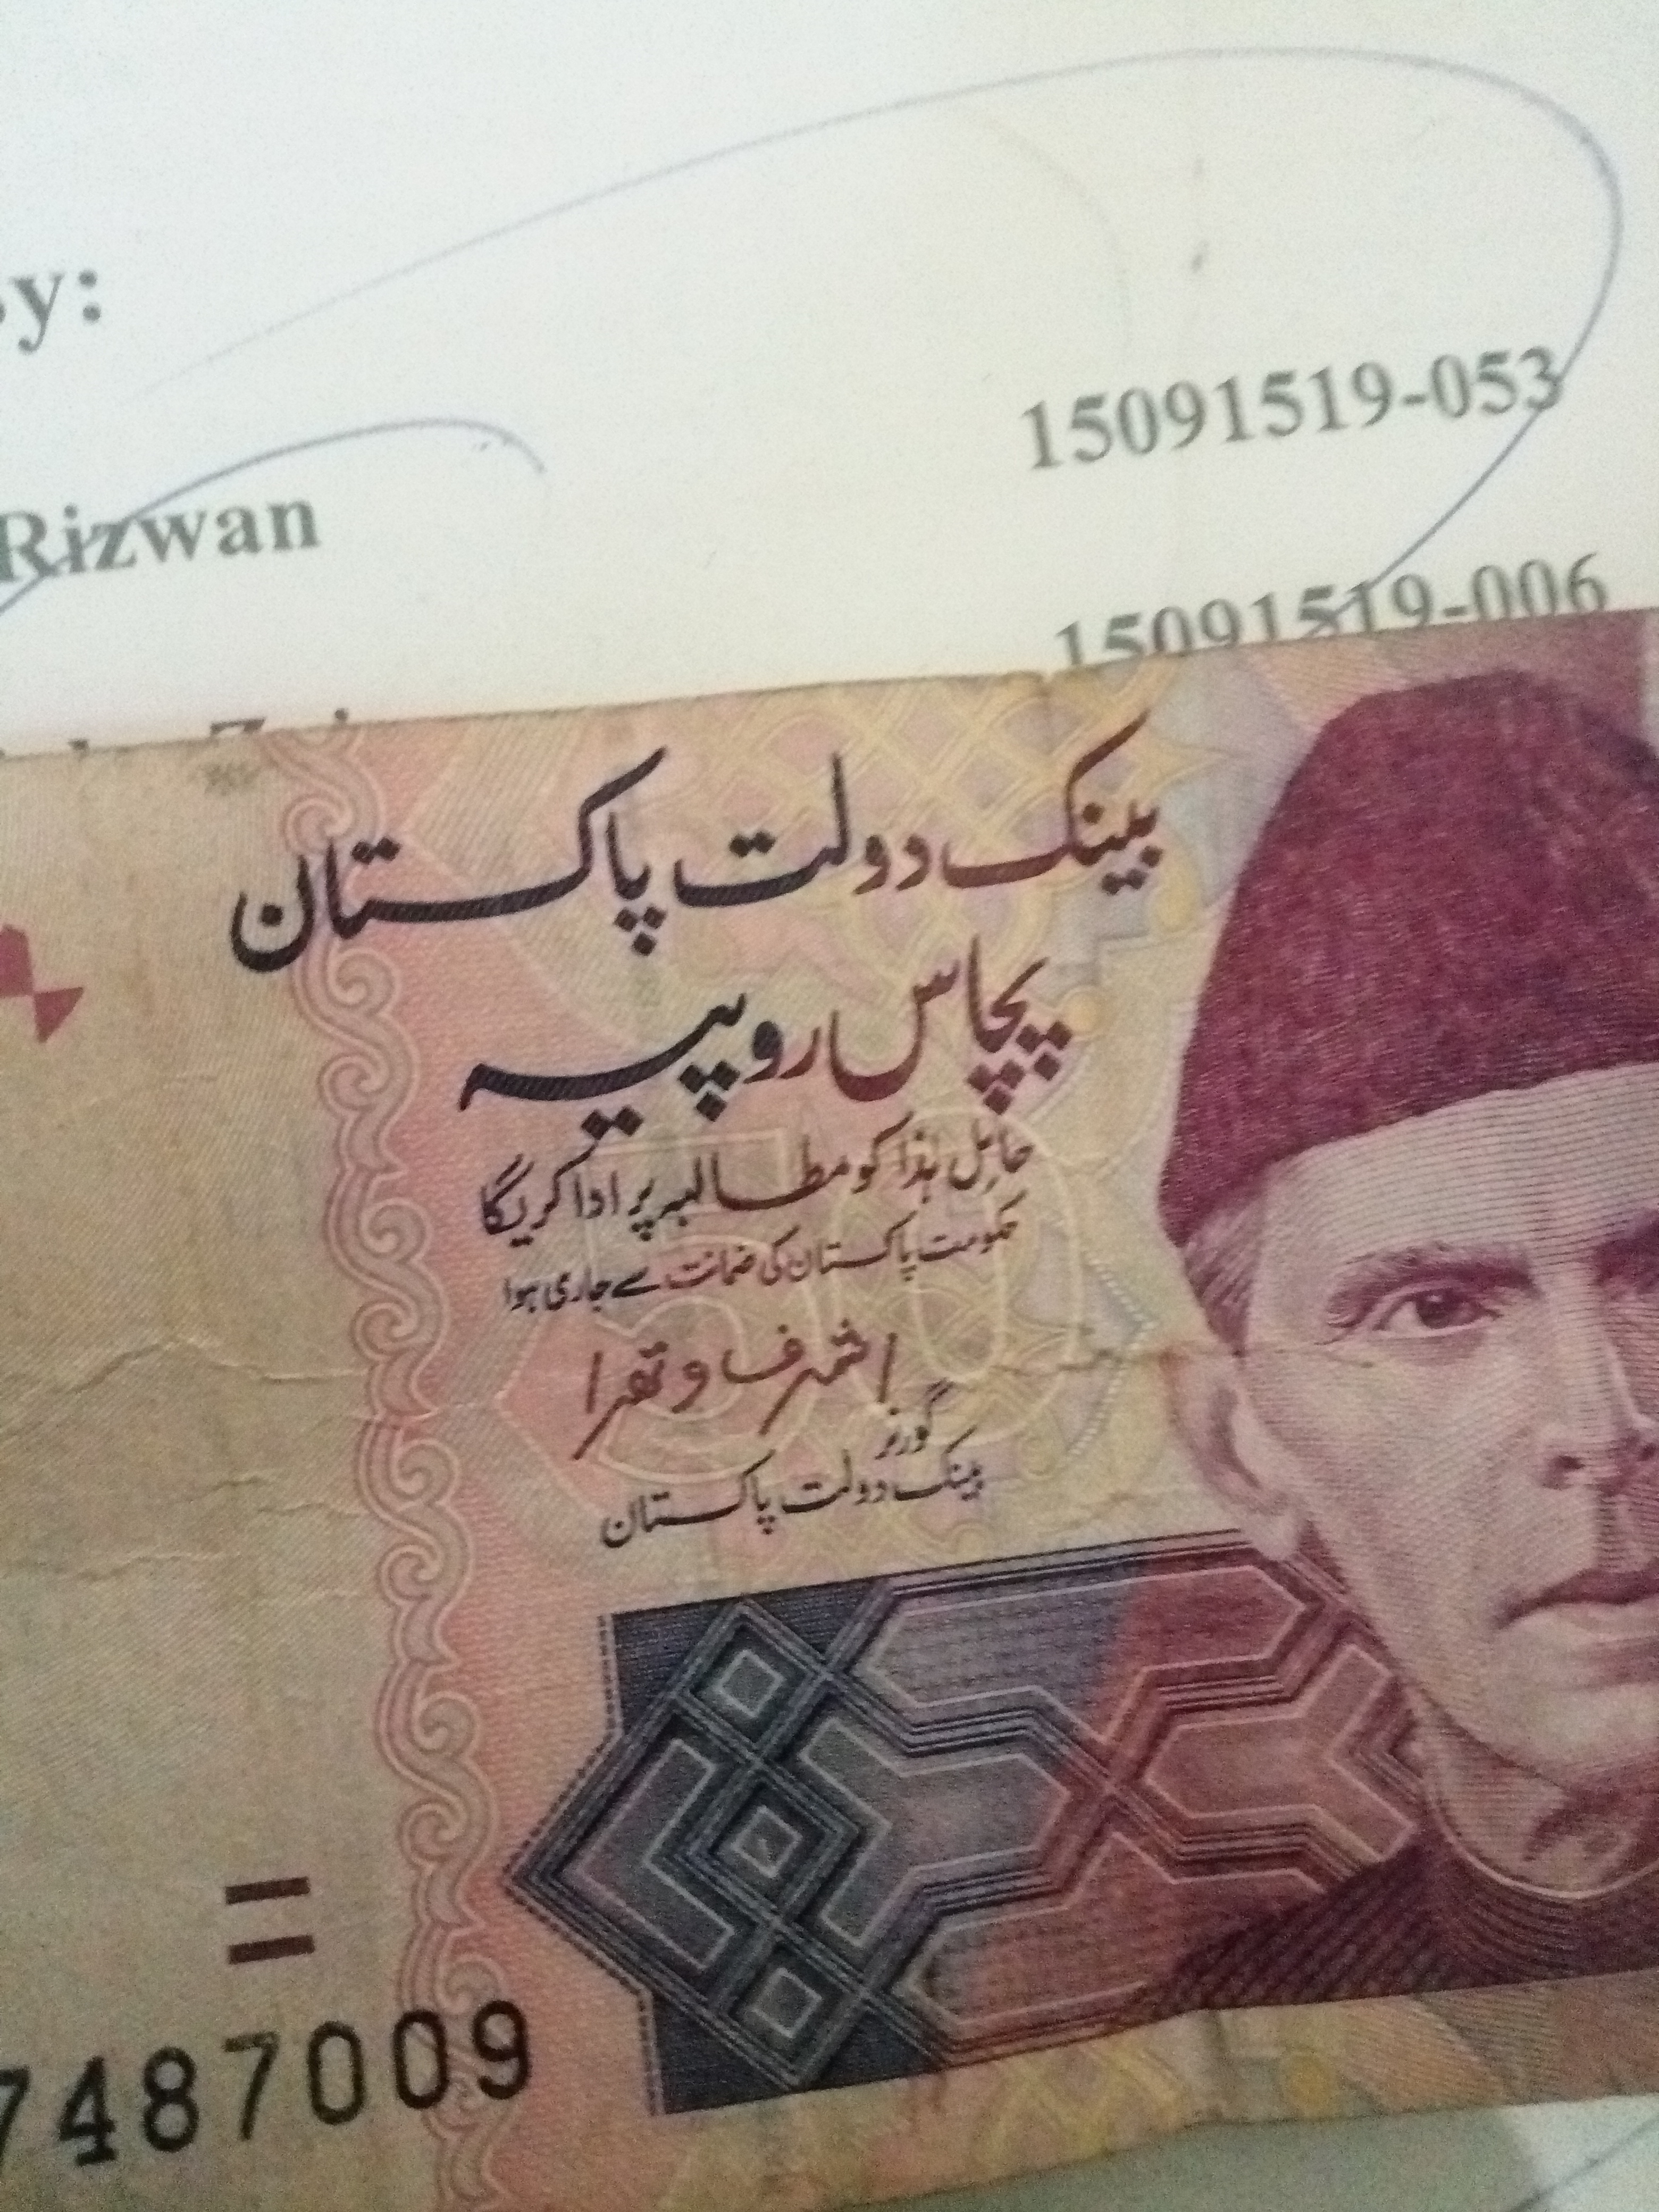50 rupee: (24, 725, 1654, 2170), (157, 1808, 411, 2024)
